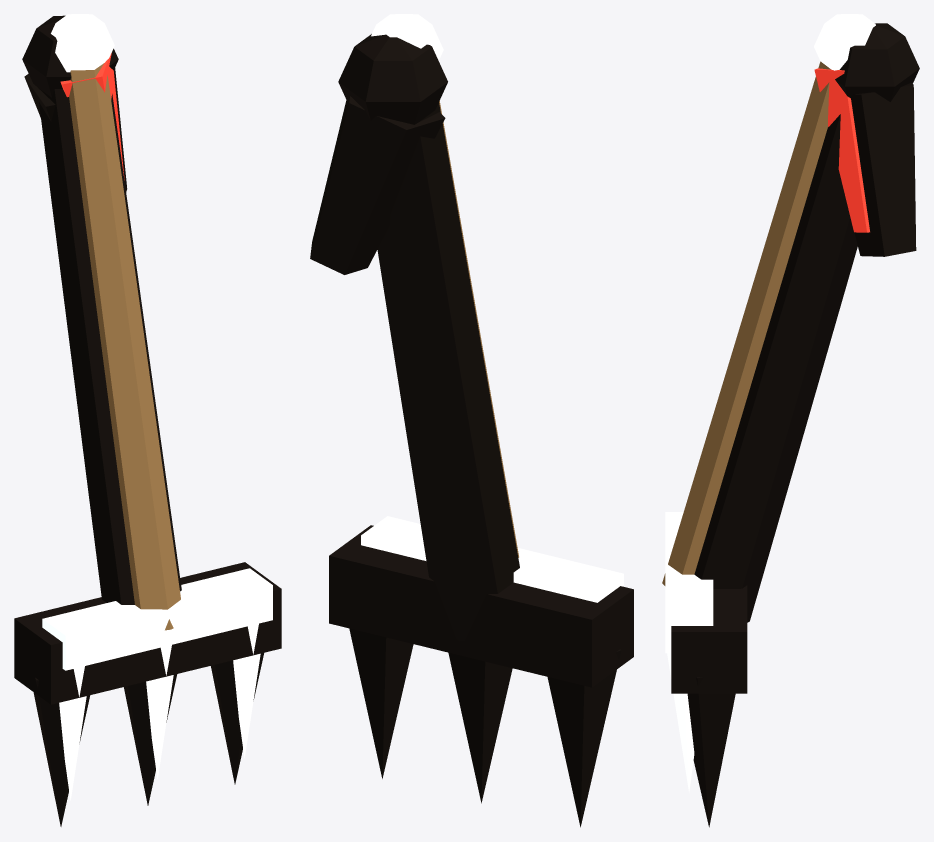
The model's file is fx_mark_pin.glb.
The picture shows the model from 3 angles, left to right: view 1: azimuth 30°, elevation 25°; view 2: azimuth 150°, elevation 25°; view 3: azimuth 270°, elevation 25°; orthographic projection. The views are drawn at different scales.
Parts seen in each view (by area): view 1: fx_mark_pin; view 2: fx_mark_pin; view 3: fx_mark_pin.
Part boxes in pixels (bbox=[...]): fx_mark_pin: bbox=[14, 14, 281, 826]; fx_mark_pin: bbox=[310, 14, 633, 827]; fx_mark_pin: bbox=[662, 14, 919, 827].
Size of the model in its own units: 0.7007 by 2.12 by 0.6438.
